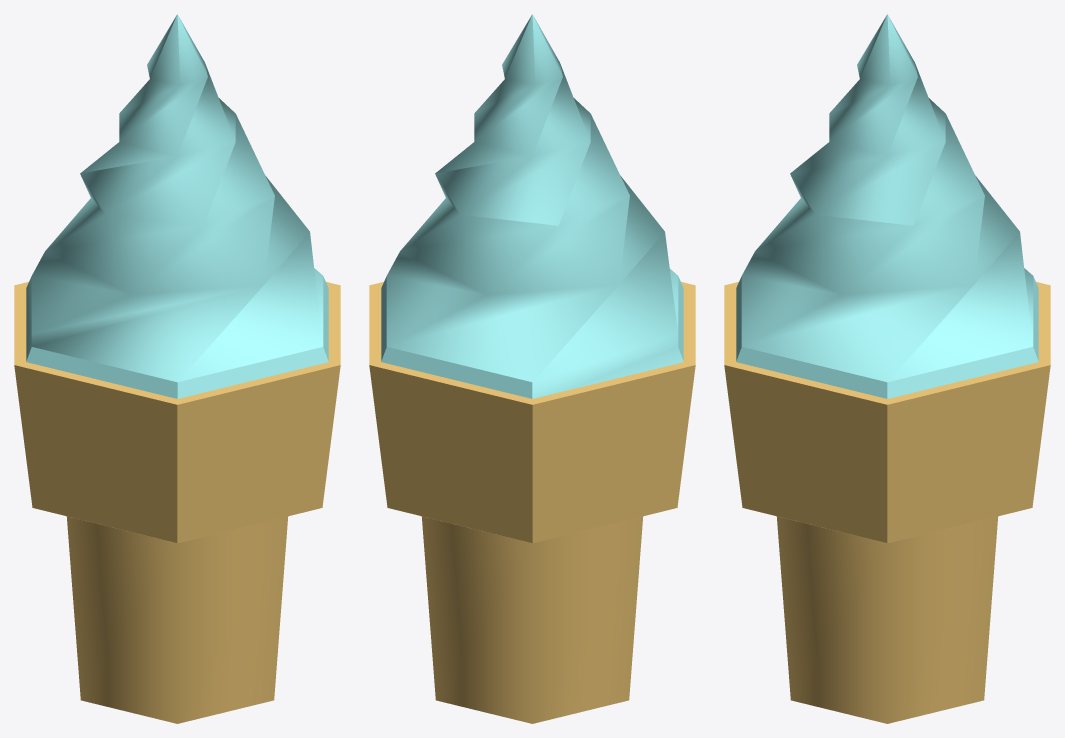
File: Unwrapped_IceCream1.fbx
3 renders of one model, left to right at view 1: azimuth 30°, elevation 25°; view 2: azimuth 150°, elevation 25°; view 3: azimuth 270°, elevation 25°, orthographic.
Visible parts, largest first — view 1: Cylinder016; view 2: Cylinder016; view 3: Cylinder016.
Boxes of the visible parts, x1,y1,x2,y2 form: Cylinder016: (14,14,340,723); Cylinder016: (369,14,695,723); Cylinder016: (724,14,1050,723).
Bounding box in the file's own units: 25.36 × 49.19 × 21.96.
